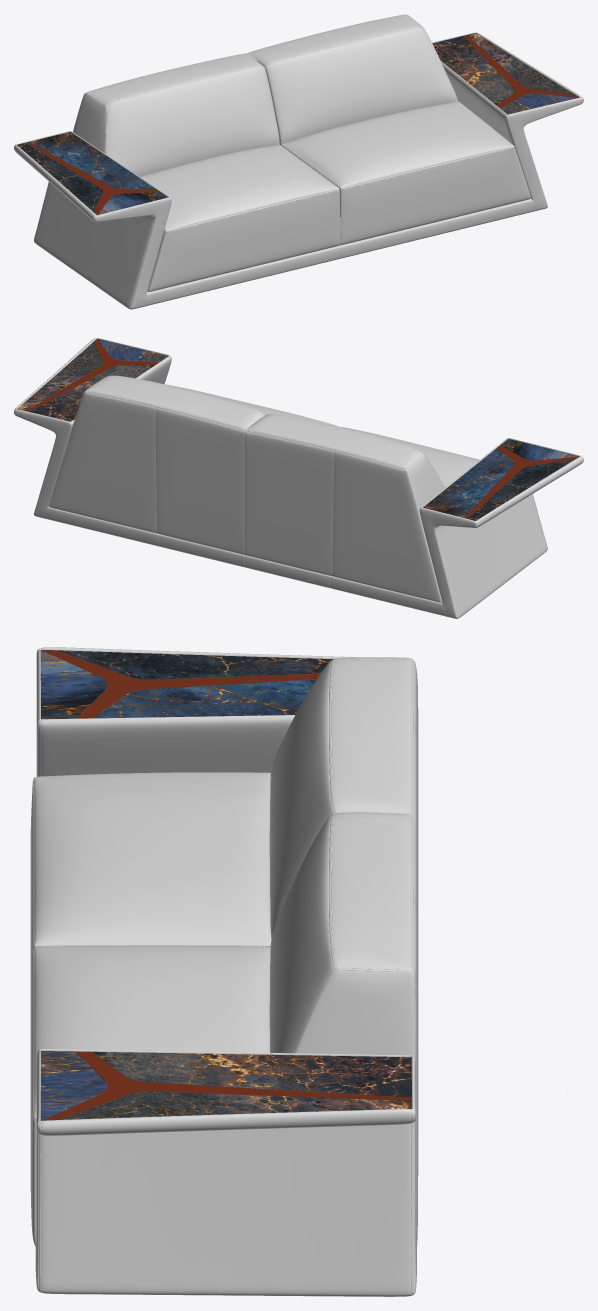
The model's file is SLN_AVENTA_3Str.glb.
3 renders of one model, top to bottom at view 1: azimuth 30°, elevation 25°; view 2: azimuth 150°, elevation 25°; view 3: azimuth 270°, elevation 25°, orthographic. The views are drawn at different scales.
Visible parts, largest first — view 1: AVENTA.3STR; view 2: AVENTA.3STR; view 3: AVENTA.3STR.
Boxes of the visible parts, box(x1,y1,x2,y2) form: AVENTA.3STR: box(14, 14, 583, 309); AVENTA.3STR: box(14, 338, 583, 618); AVENTA.3STR: box(30, 647, 567, 1296).
Size of the model in its own units: 2.7 by 0.7655 by 1.28.
4 materials, 1 textured.
